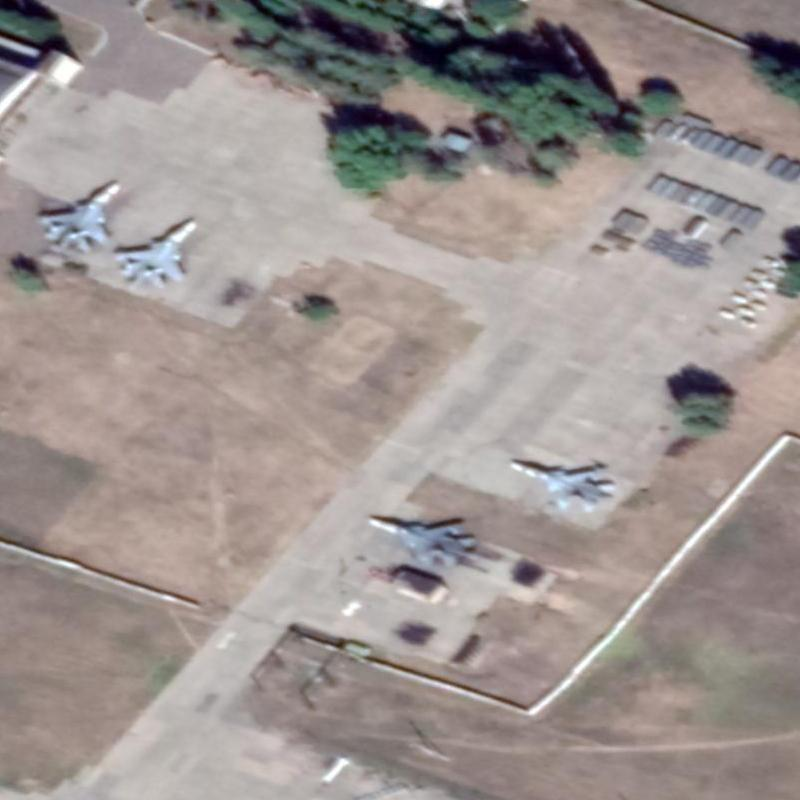A19: (36, 177, 121, 256), (109, 216, 198, 291), (364, 514, 479, 572), (507, 458, 618, 514)
